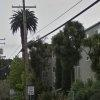Palm tree: (12, 9, 45, 67)
